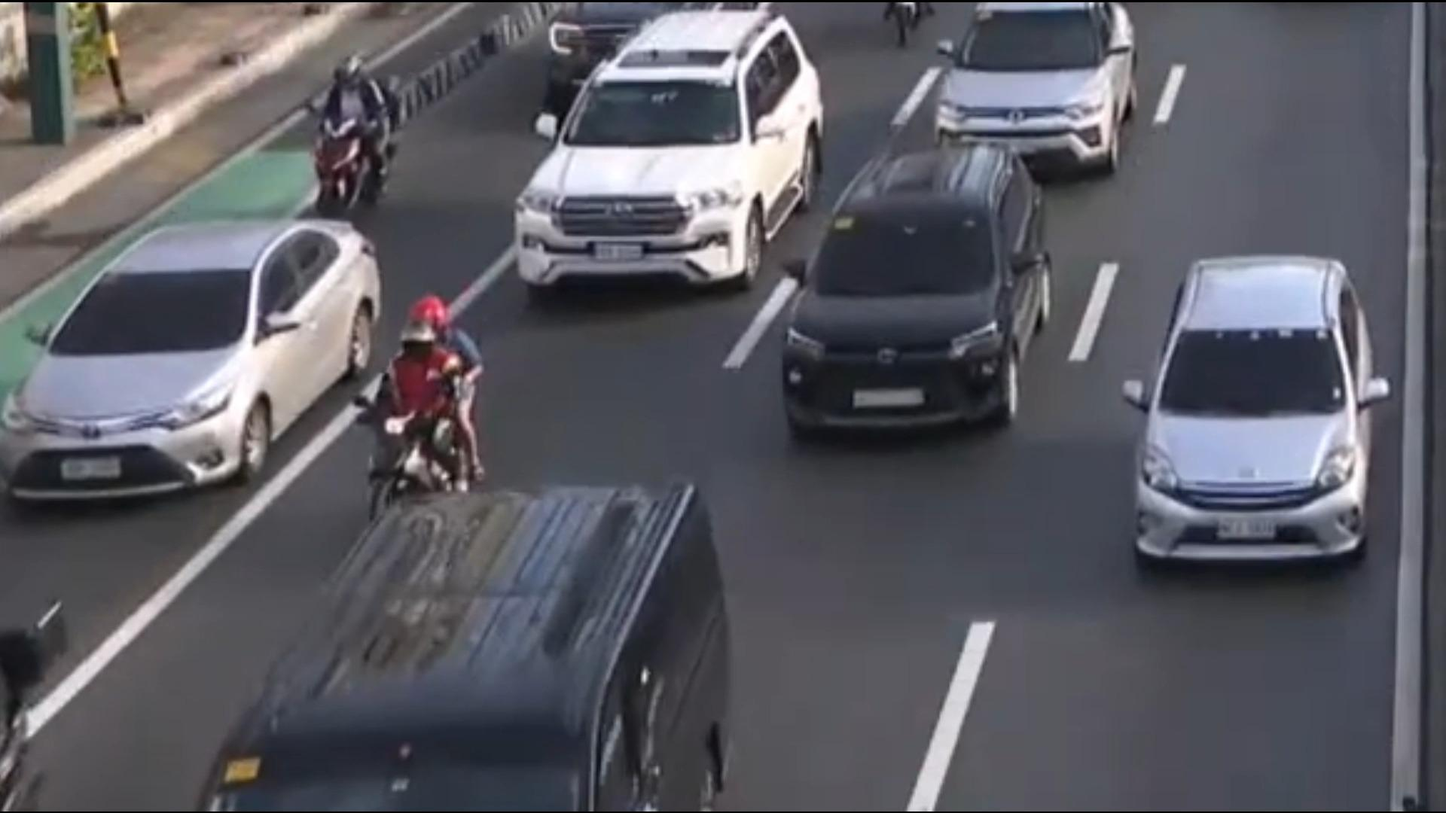Motorcycle: (348, 285, 487, 545), (301, 51, 406, 217)
SUV: (1112, 257, 1392, 622), (773, 133, 1064, 459), (511, 0, 824, 301), (921, 0, 1146, 178)
Sedan: (0, 202, 388, 525)
Van: (190, 471, 761, 813)
